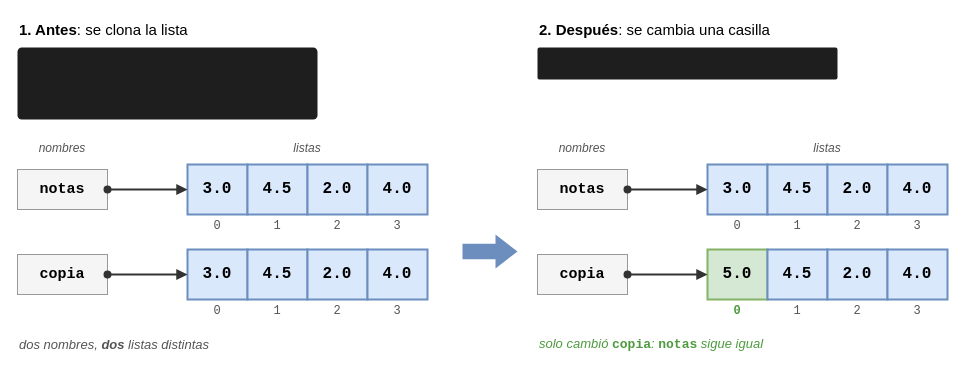
Image size: 975x376. Some labels were removed from this diagram. Here are the shapes that lost their labels. From the top down, the centre of each, then its label:
At point 167,83: "copia = [0.0] * N for i in range(N): copia[i] = notas[i]".
At point 687,63: "copia[0] = 5.0".
